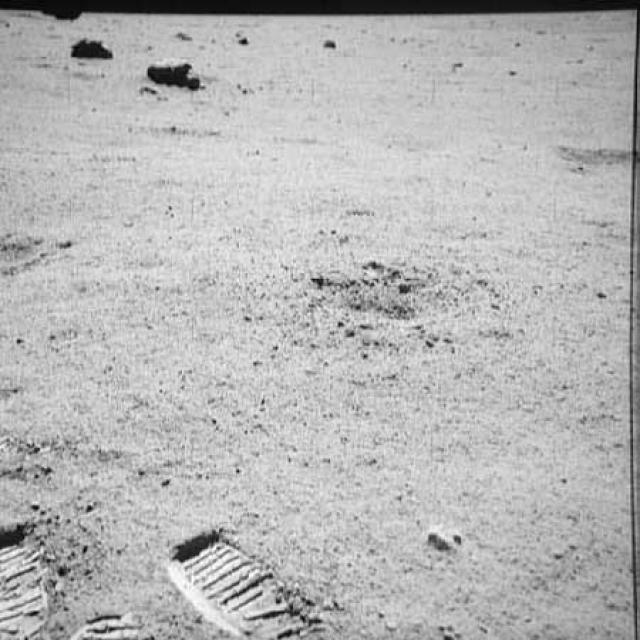crater: (332, 268, 460, 323), (544, 139, 638, 175), (0, 233, 56, 281)
rock: (146, 54, 210, 96), (64, 33, 111, 70), (316, 32, 338, 53)
